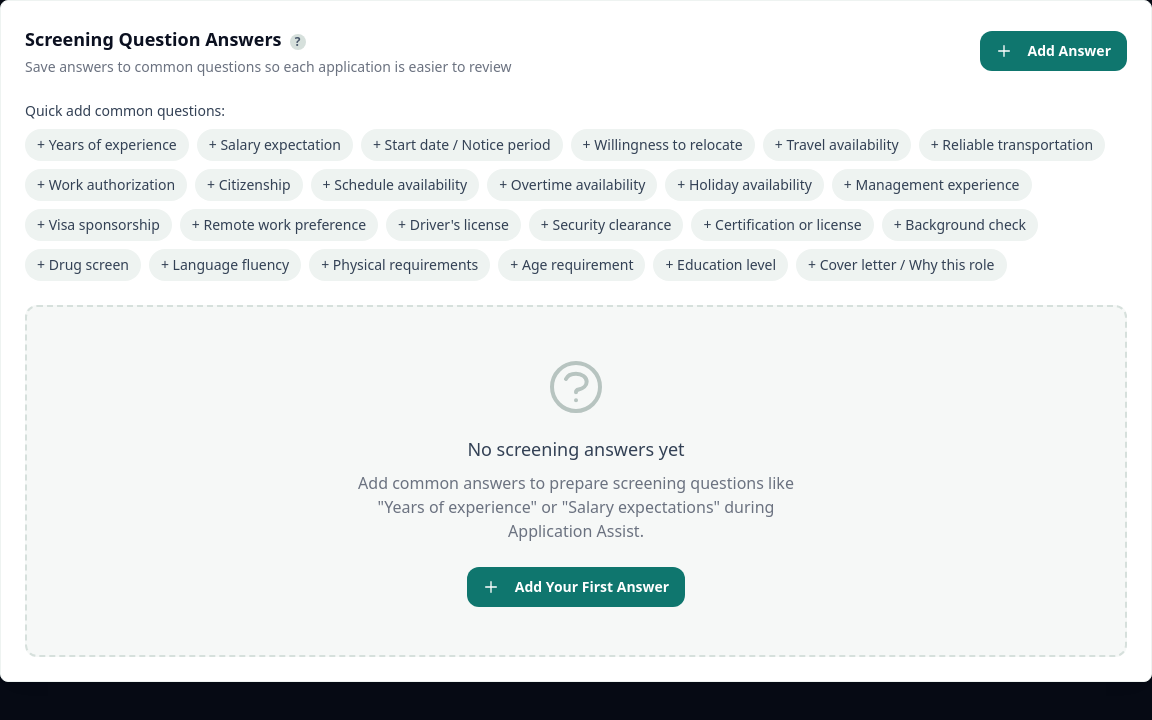
Test: ScreeningAnswersForm › form validation › validates on blur
Click the button "Add Answer": {"x": 1053, "y": 51} [980,31,1127,71]
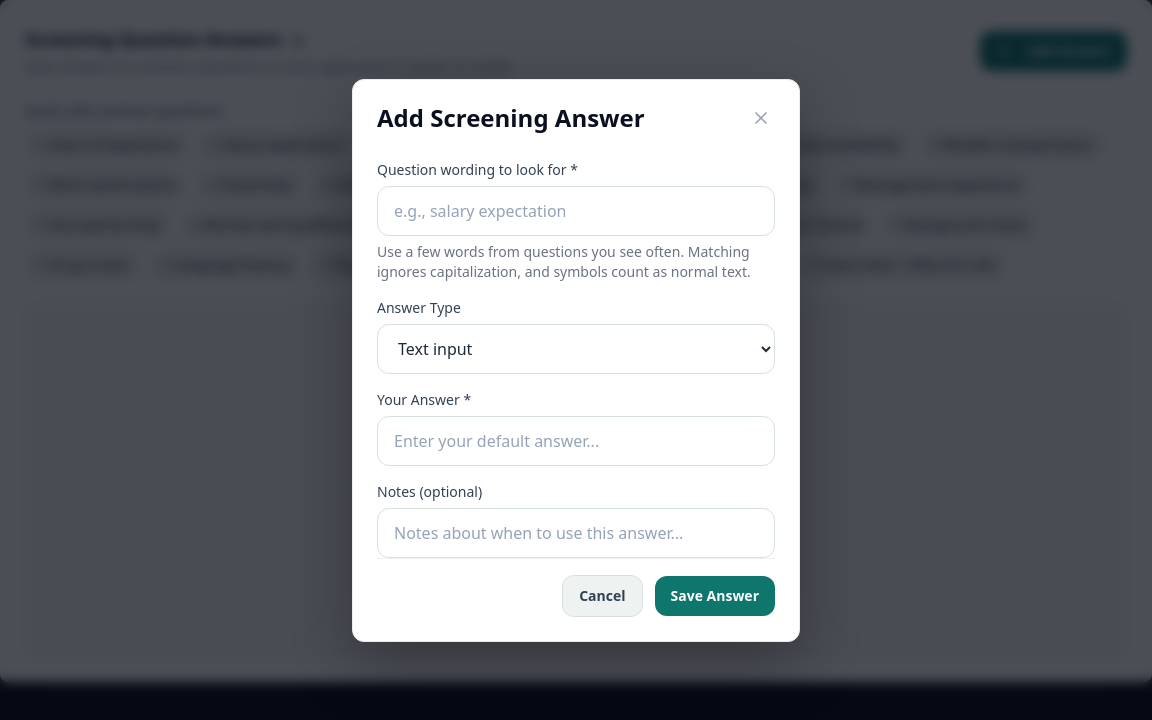
Click the field labelled "Your Answer *": {"x": 576, "y": 440} [377,416,775,466]
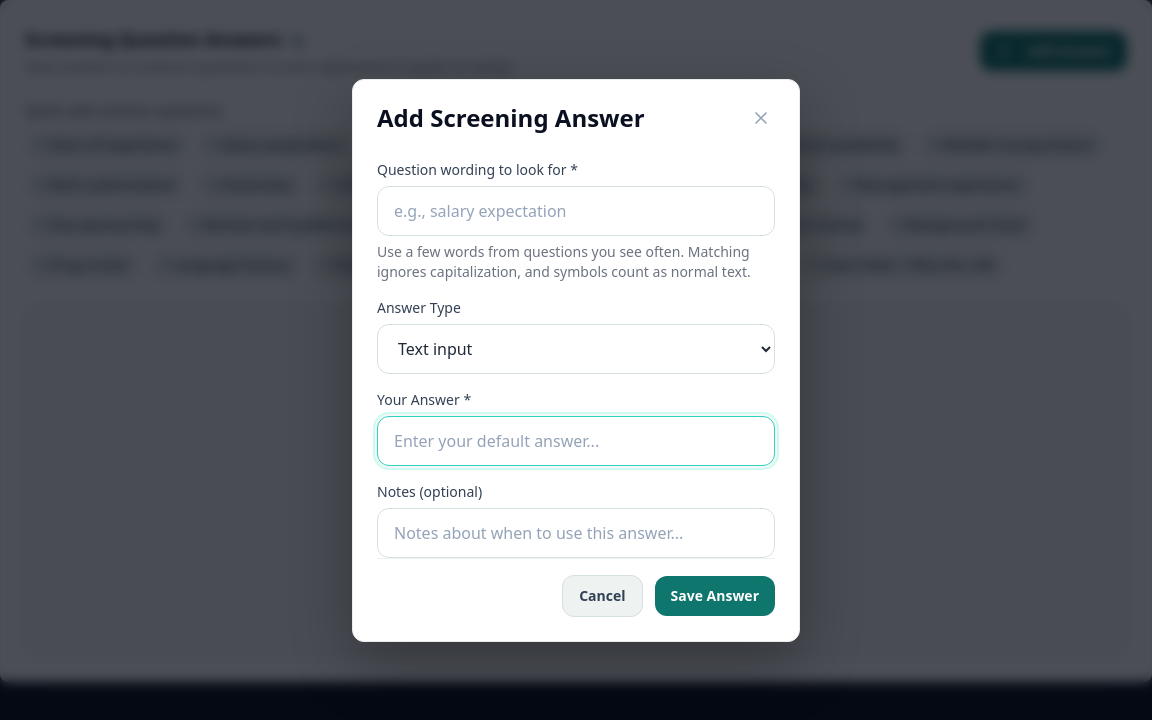
Leave the field labelled "Your Answer *", box [377,416,775,466]
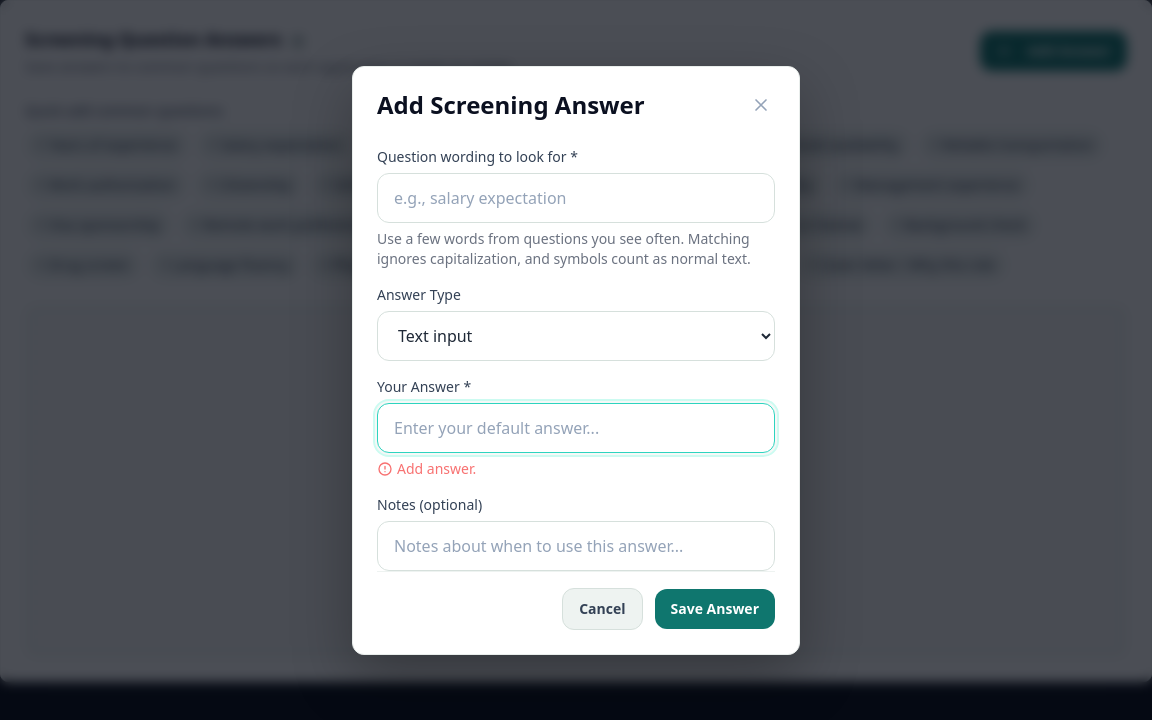
Expected: the text "Add answer." is shown, [377,458,476,478]
